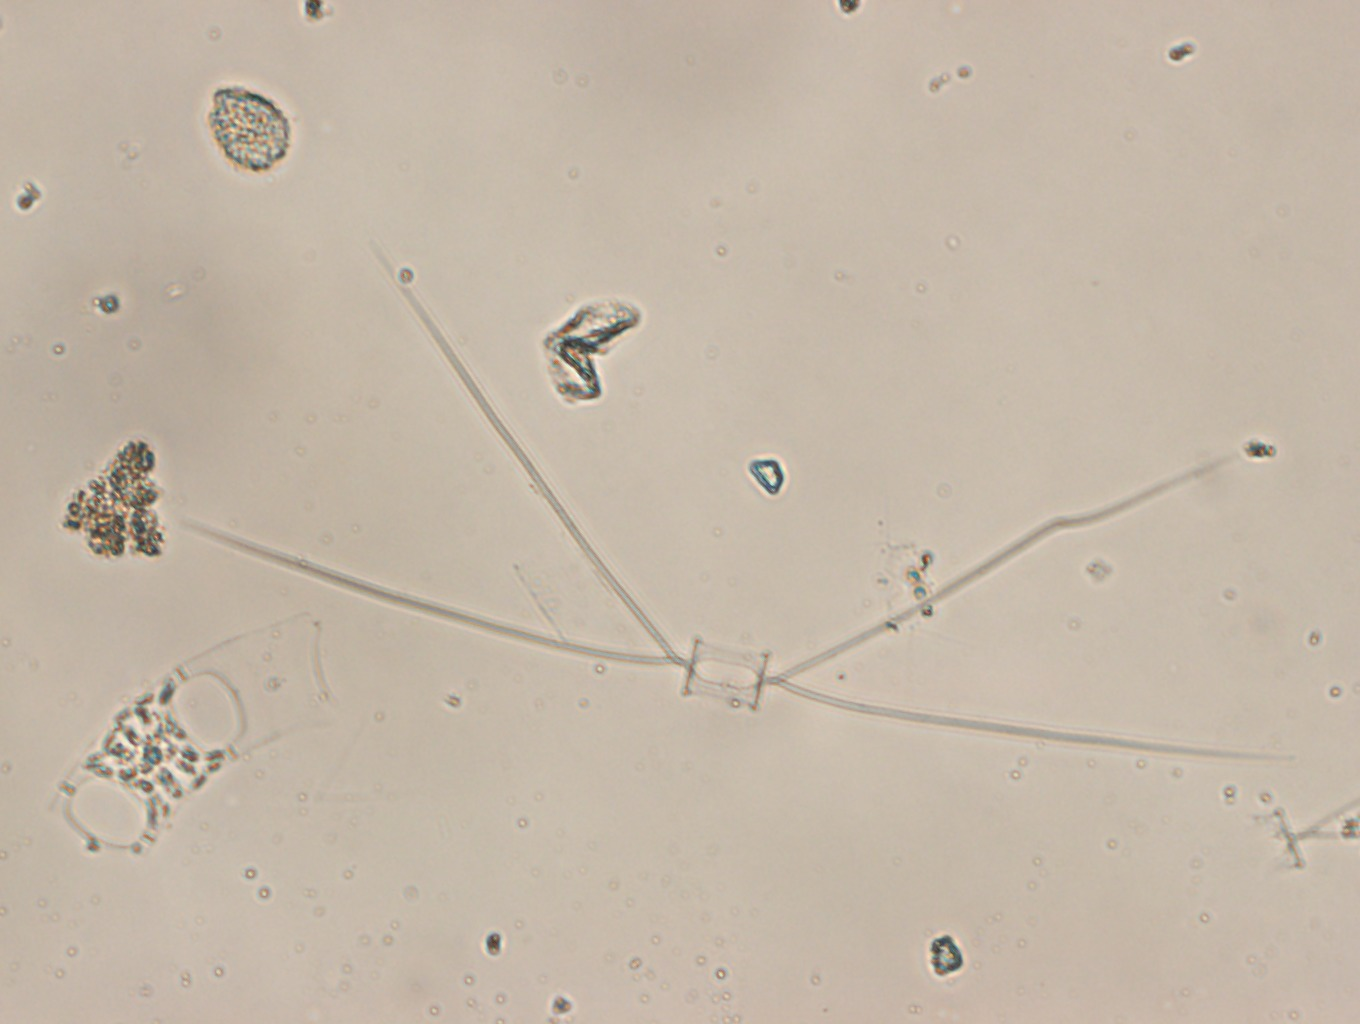chaetoceros: (178, 225, 1299, 760)
eucampia: (35, 614, 347, 869)
